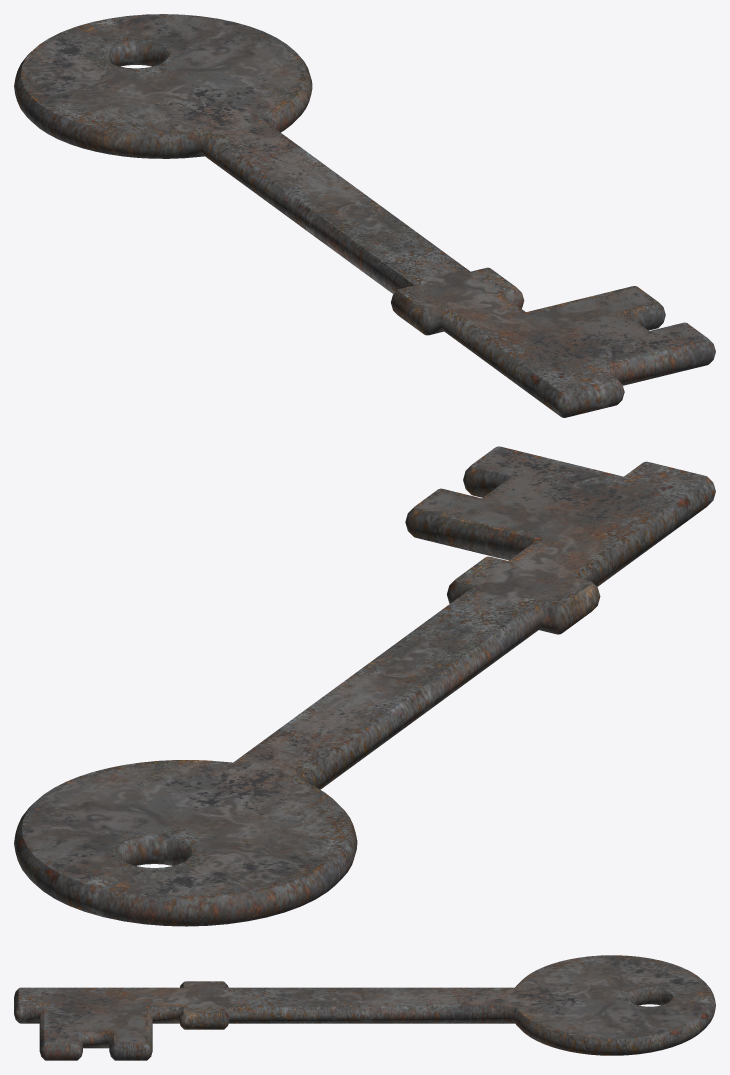
File: klic.fbx
The picture shows the model from 3 angles, top to bottom: view 1: azimuth 30°, elevation 25°; view 2: azimuth 150°, elevation 25°; view 3: azimuth 270°, elevation 25°; orthographic projection. The views are drawn at different scales.
Visible parts, largest first — view 1: Curve; view 2: Curve; view 3: Curve.
Part boxes in pixels (x1,y1,x2,y2): Curve: [14, 14, 715, 417]; Curve: [14, 446, 715, 926]; Curve: [14, 955, 715, 1060].
Bounding box in the file's own units: 6.34 × 0.5426 × 20.32.
